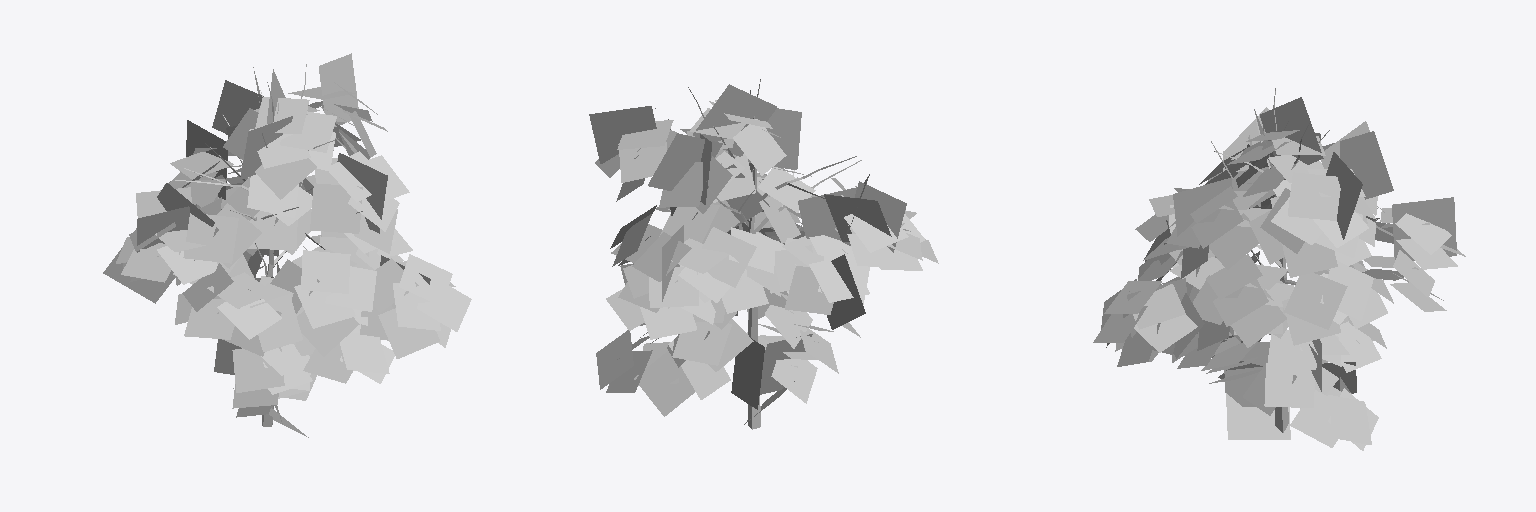
File: tree4b_lod2.obj
The picture shows the model from 3 angles: view 1: azimuth 30°, elevation 25°; view 2: azimuth 150°, elevation 25°; view 3: azimuth 270°, elevation 25°; orthographic projection.
Parts seen in each view (by area): view 1: leaves 0.0 0.[number redacted] 0.0 0 0 0 0.[number redacted] 0.[number redacted], bark 0.[number redacted] -0.[number redacted] -0.[number redacted]; view 2: leaves 0.0 0.[number redacted] 0.0 0 0 0 0.[number redacted] 0.[number redacted], bark 0.[number redacted] -0.[number redacted] -0.[number redacted]; view 3: leaves 0.0 0.[number redacted] 0.0 0 0 0 0.[number redacted] 0.[number redacted], bark 0.[number redacted] -0.[number redacted] -0.[number redacted].
Part boxes in pixels (x1,y1,x2,y2): leaves 0.0 0.[number redacted] 0.0 0 0 0 0.[number redacted] 0.[number redacted]: (103, 53, 471, 437); bark 0.[number redacted] -0.[number redacted] -0.[number redacted]: (175, 64, 362, 426); leaves 0.0 0.[number redacted] 0.0 0 0 0 0.[number redacted] 0.[number redacted]: (589, 84, 938, 424); bark 0.[number redacted] -0.[number redacted] -0.[number redacted]: (688, 79, 861, 429); leaves 0.0 0.[number redacted] 0.0 0 0 0 0.[number redacted] 0.[number redacted]: (1093, 97, 1465, 450); bark 0.[number redacted] -0.[number redacted] -0.[number redacted]: (1205, 88, 1329, 432).
Size of the model in its own units: 0.878 by 1 by 0.982.